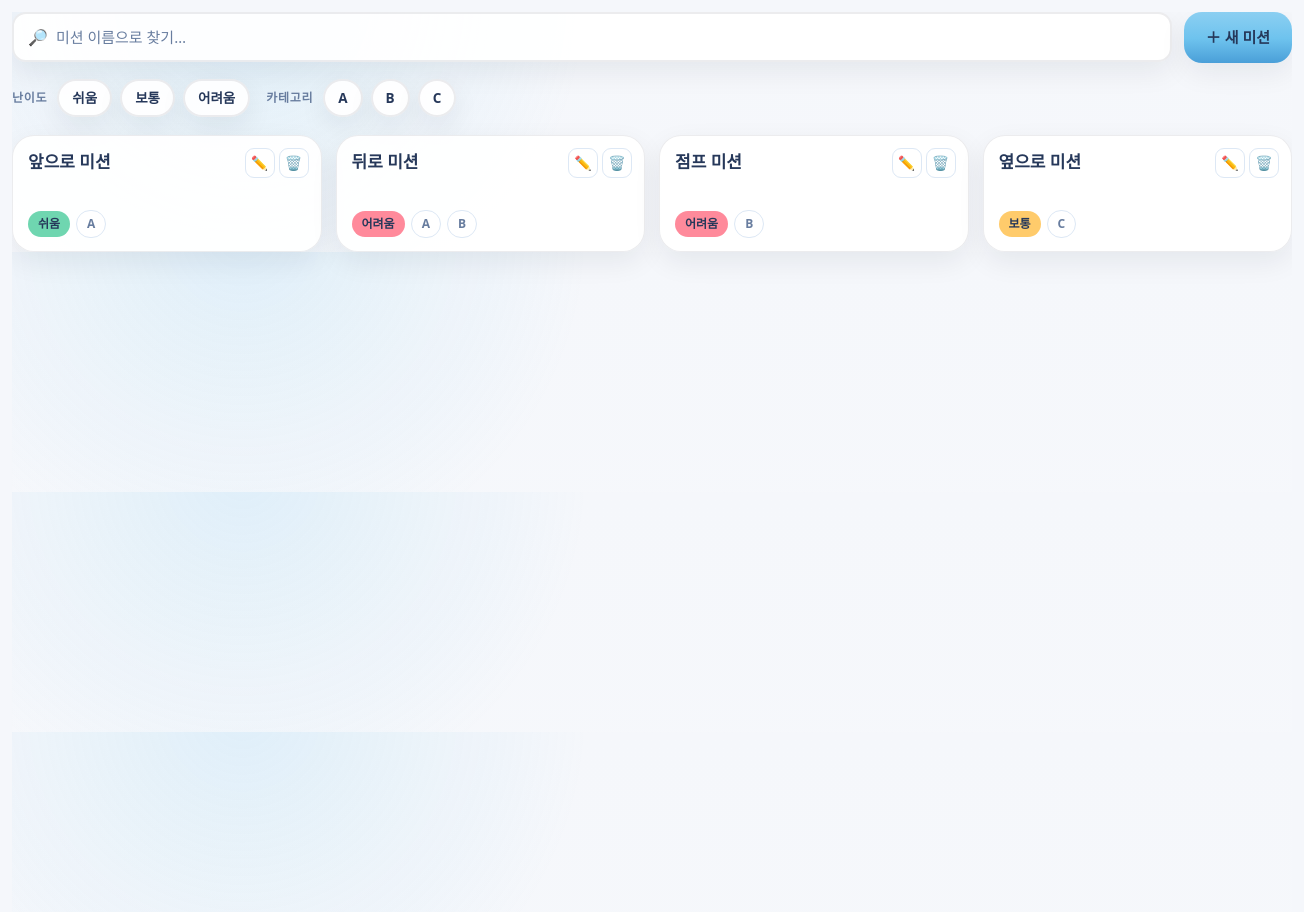
Test case: MissionTab (search + difficulty/category filter + delete) › drops a deleted category from the active filter so the list is not stranded (D-02)
The image size is (1304, 912).
Click the button "C".
click(437, 98)  # box [418,78,456,117]
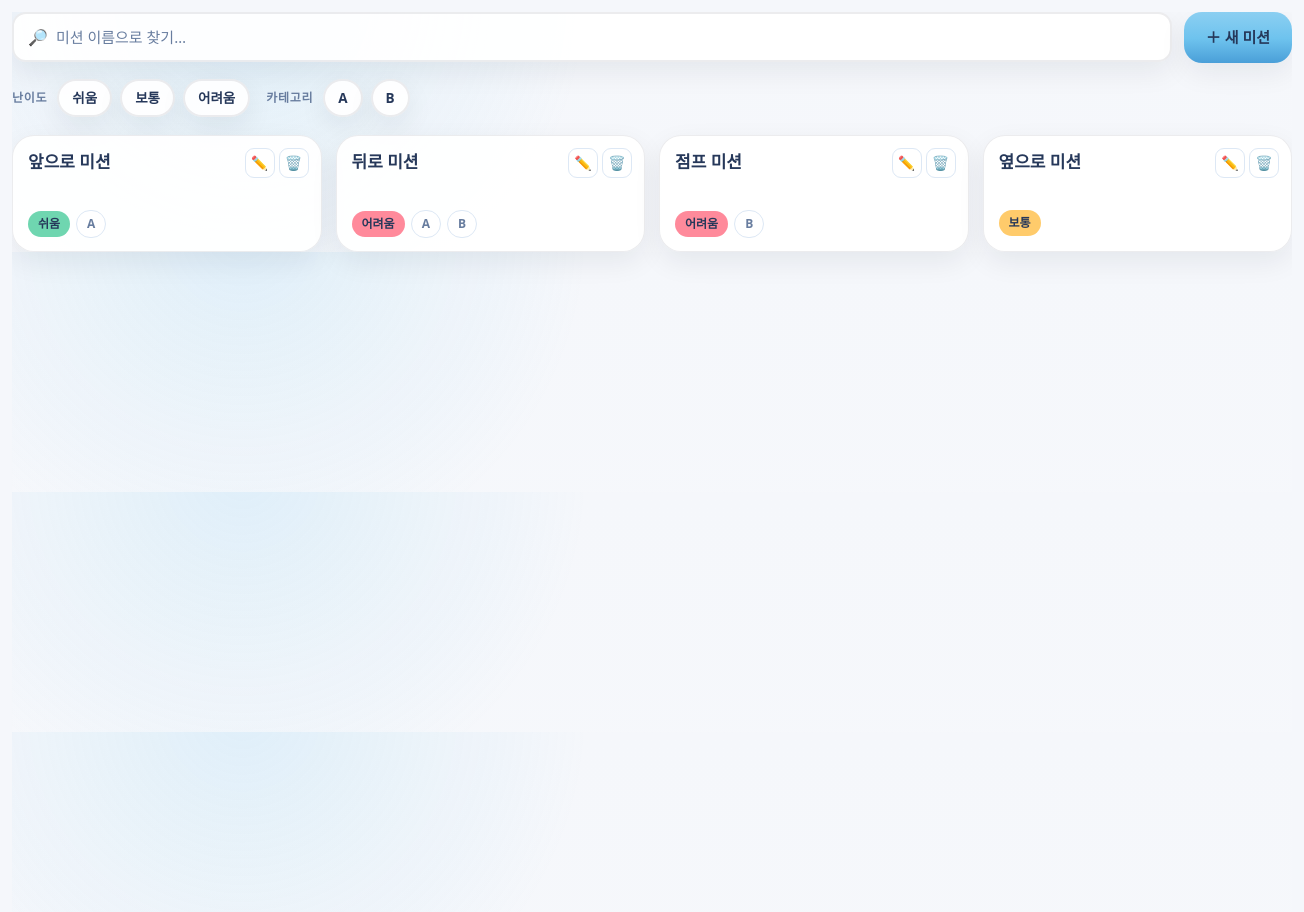
Expected: the text "옆으로 미션" is shown, [998,150,1081,173]
Result: the button "C" is gone
